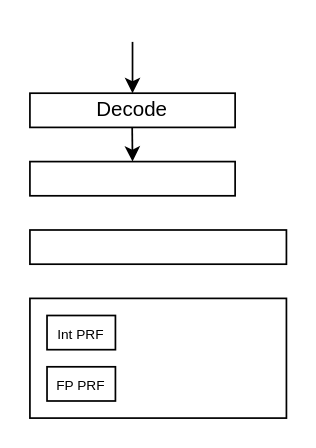
Image size: 316x448. Some labels were removed from this diagram. The centre of each missing label's shape, as x and y in pixels:
"Dispatch" belongs at pixel 157 246.
"Rename" belongs at pixel 131 178.
